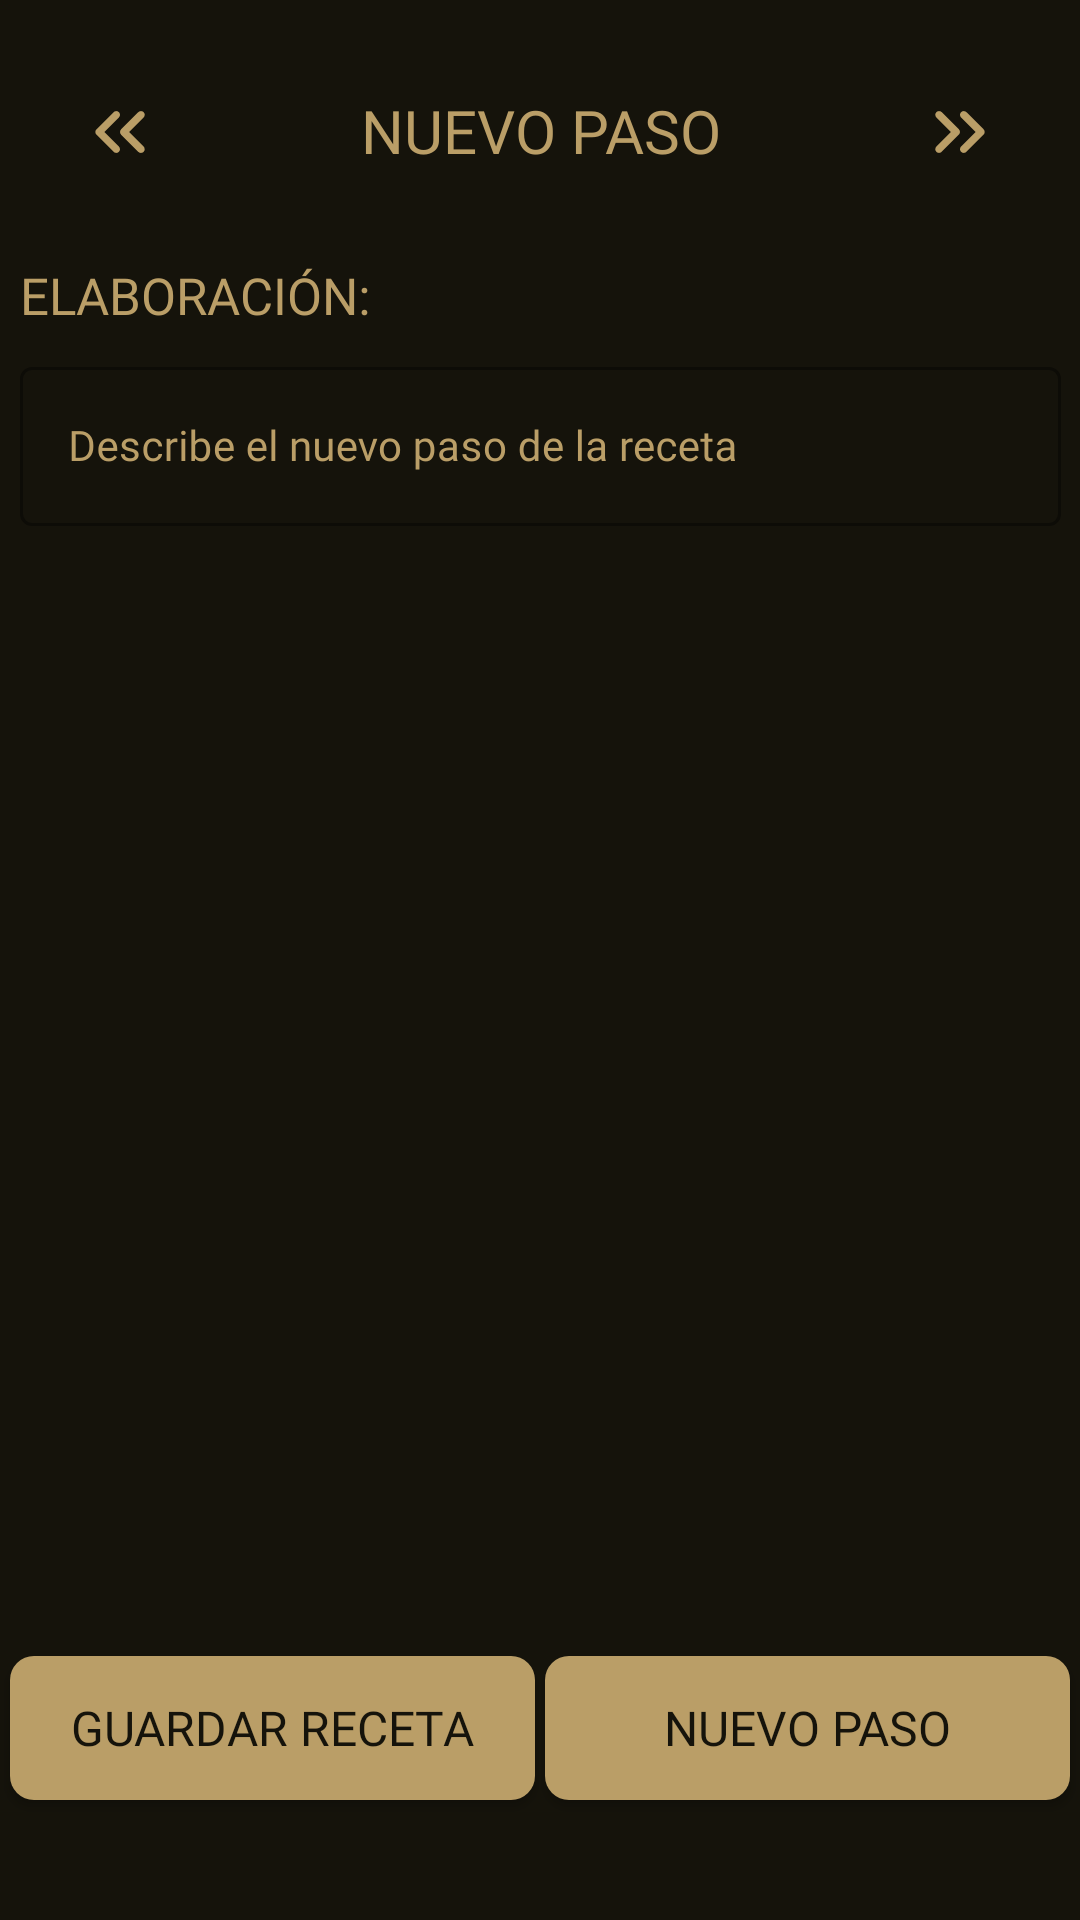

Screen size 1080w x 1920h. Icon name, then its center in pixels as [x,y]:
arrow left: [120,132]
arrow right: [960,132]
